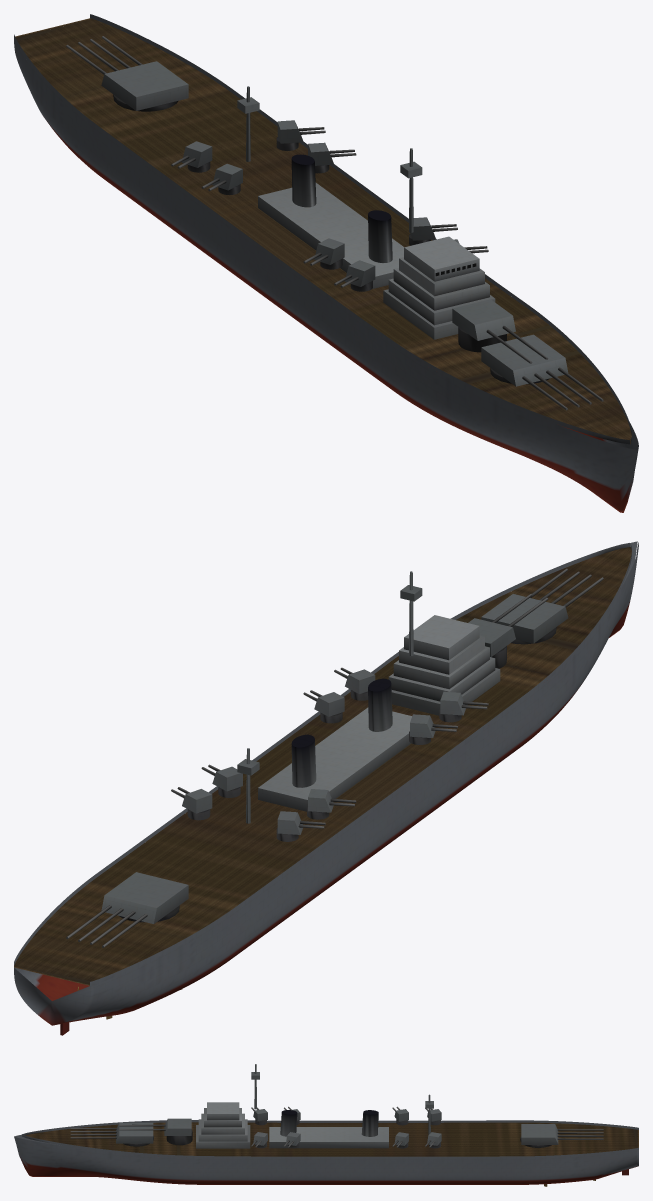
Rendered from model_built.glb.
The picture shows the model from 3 angles, top to bottom: view 1: azimuth 30°, elevation 25°; view 2: azimuth 150°, elevation 25°; view 3: azimuth 270°, elevation 25°; orthographic projection. The views are drawn at different scales.
Visible parts, largest first — view 1: main; view 2: main; view 3: main.
Boxes of the visible parts, left/top/right/bottom form: main: left=14, top=14, right=638, bottom=512; main: left=14, top=541, right=638, bottom=1035; main: left=14, top=1064, right=638, bottom=1186.
Bounding box in the file's own units: 34.68 × 45.71 × 230.
Materials: 2 (2 with a texture image).
